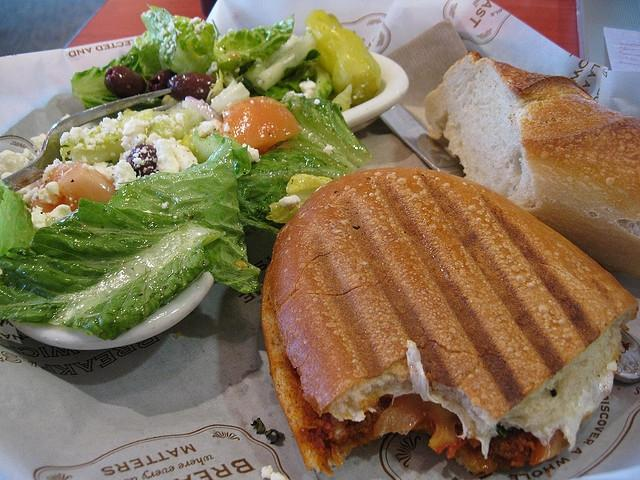lettuce: (0, 198, 226, 342), (237, 96, 373, 236), (140, 4, 216, 74), (243, 34, 320, 102), (71, 47, 139, 122), (213, 14, 294, 72), (0, 180, 41, 257)
